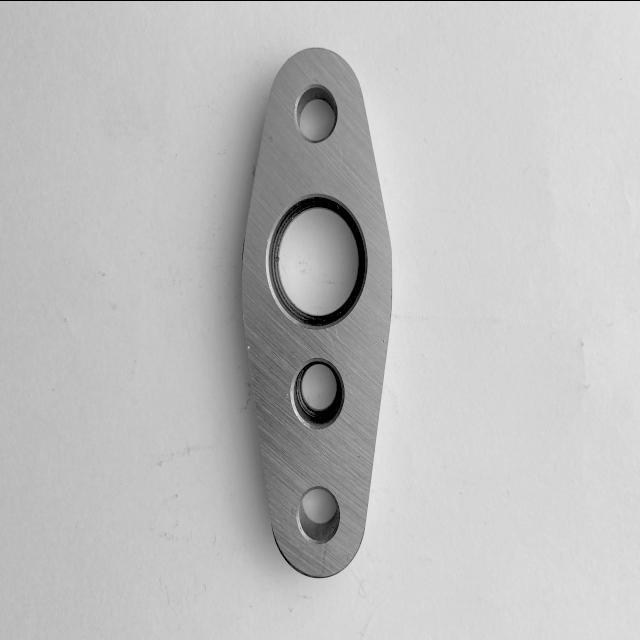chap: (284, 391, 290, 400), (380, 336, 385, 344), (247, 342, 251, 350), (356, 216, 360, 223)
lines: (329, 328, 341, 356), (320, 545, 330, 575)
